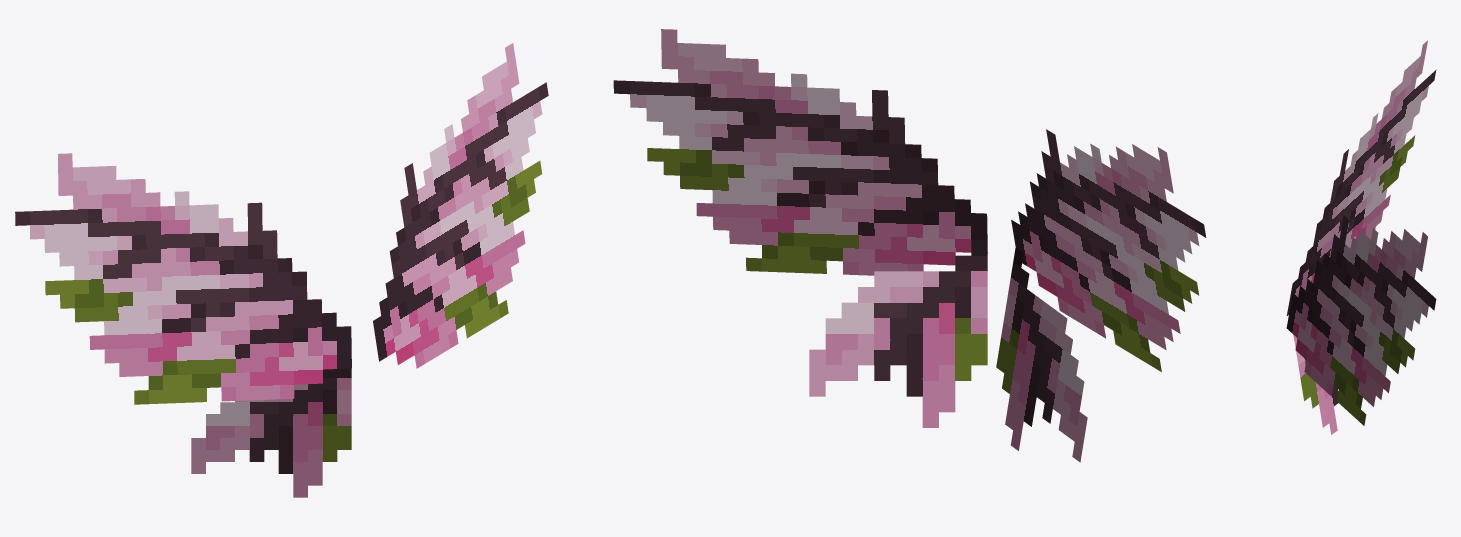
File: sl_wilderness_wings.glb
The picture shows the model from 3 angles, left to right: view 1: azimuth 30°, elevation 25°; view 2: azimuth 150°, elevation 25°; view 3: azimuth 270°, elevation 25°; orthographic projection. The views are drawn at different scales.
Visible parts, largest first — view 1: bb_wilderness_wings; view 2: bb_wilderness_wings; view 3: bb_wilderness_wings.
Part boxes in pixels (<box>): bb_wilderness_wings: <box>15,43,548,497</box>; bb_wilderness_wings: <box>613,29,1206,462</box>; bb_wilderness_wings: <box>1286,40,1436,434</box>.
Size of the model in its own units: 2.79 by 1.85 by 0.8337.
Materials: 1 (1 with a texture image).
